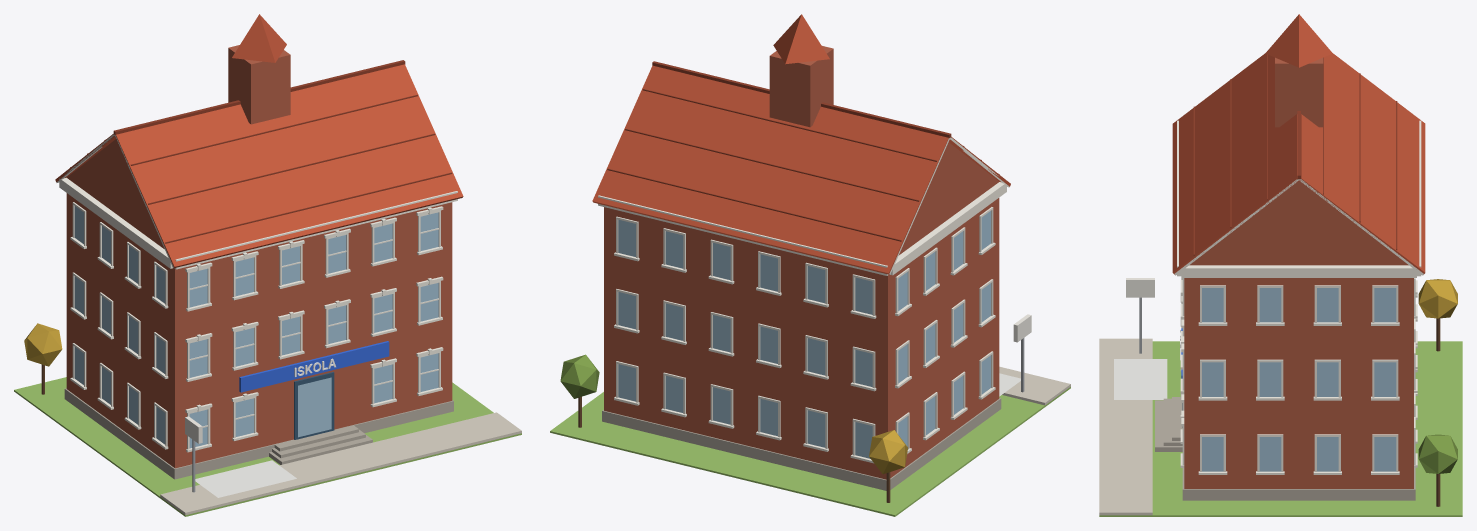
The model's file is Kamu_okul_1_Hafif.fbx.
The picture shows the model from 3 angles, left to right: view 1: azimuth 30°, elevation 25°; view 2: azimuth 150°, elevation 25°; view 3: azimuth 270°, elevation 25°; orthographic projection. The views are drawn at different scales.
Parts seen in each view (by area): view 1: Kamu_okul_1_Hafif; view 2: Kamu_okul_1_Hafif; view 3: Kamu_okul_1_Hafif.
Part boxes in pixels (<box>): Kamu_okul_1_Hafif: <box>14,14,521,516</box>; Kamu_okul_1_Hafif: <box>550,14,1070,516</box>; Kamu_okul_1_Hafif: <box>1099,14,1462,516</box>.
Bounding box in the file's own units: 17 × 18.97 × 15.
